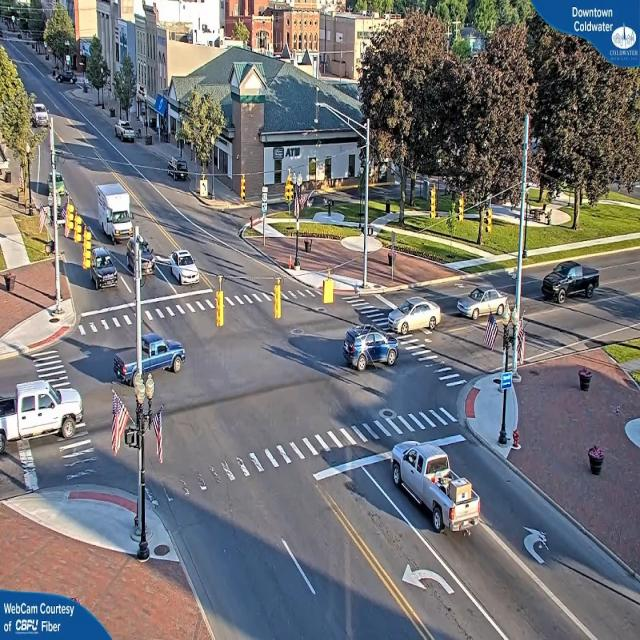car: (391, 444, 479, 539), (4, 379, 88, 451), (114, 332, 184, 388), (343, 330, 398, 373), (541, 262, 602, 300), (456, 284, 510, 325), (400, 299, 440, 332), (125, 238, 155, 282), (167, 251, 199, 287), (166, 160, 189, 180), (116, 122, 136, 143)
truck: (98, 181, 138, 240), (90, 252, 118, 288)
